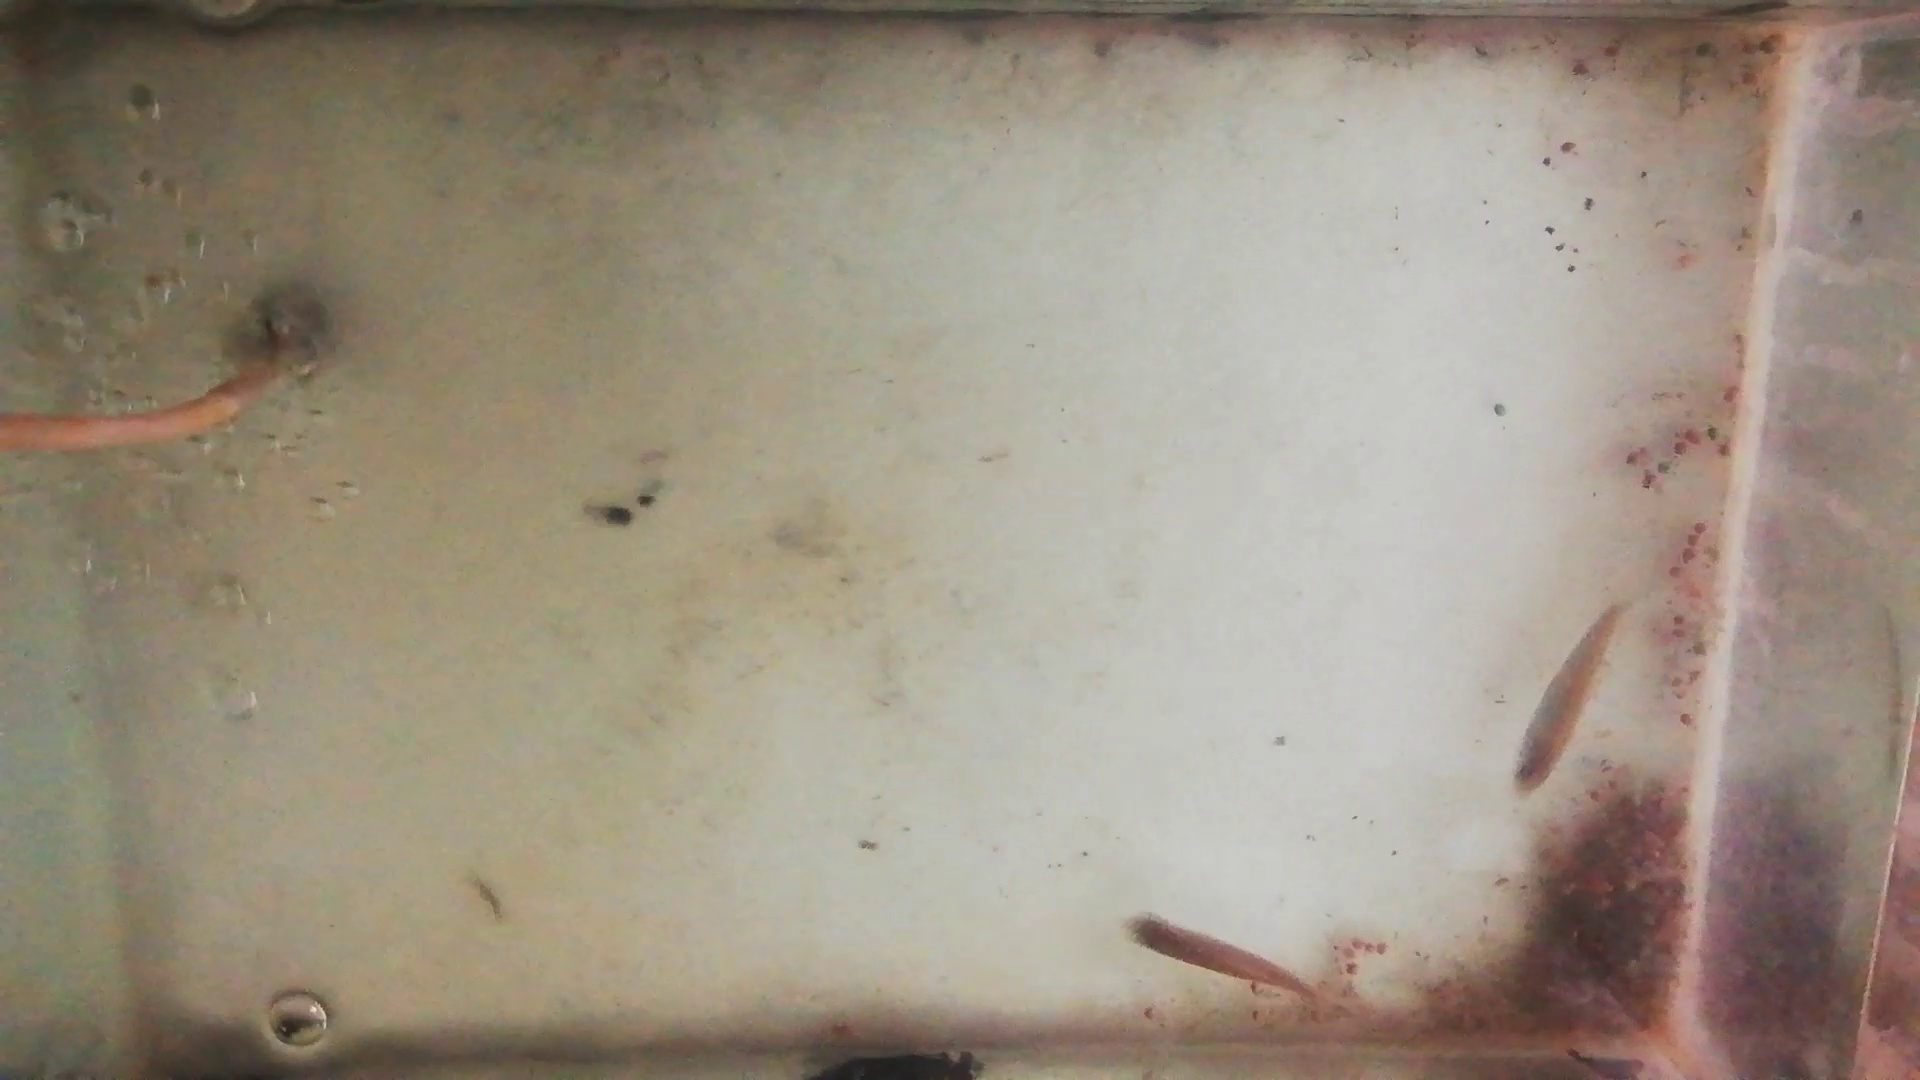fish: (1513, 601, 1621, 791), (1120, 913, 1309, 994)
